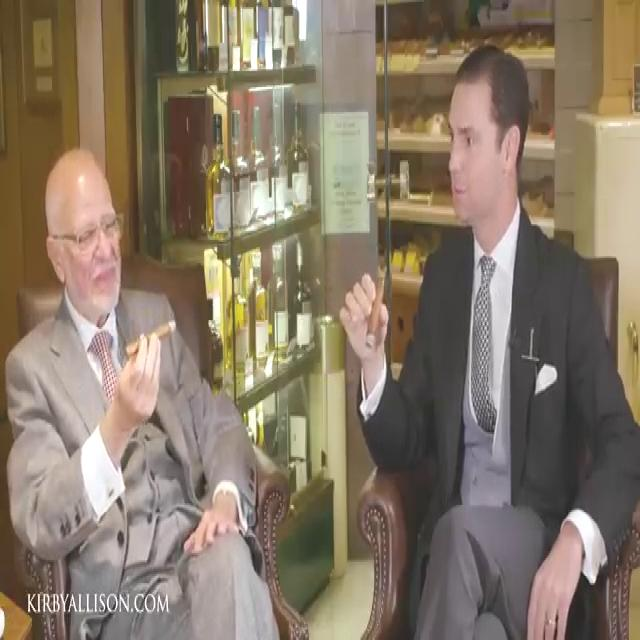Smooking: (125, 312, 183, 376), (356, 261, 394, 347)
